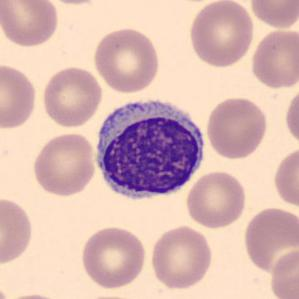Lymphocyte: (89, 90, 210, 207)
RBC: (91, 26, 162, 94), (30, 130, 98, 198), (187, 0, 255, 68), (79, 224, 148, 290), (148, 224, 215, 291), (204, 95, 270, 161), (40, 64, 104, 129), (241, 204, 297, 275), (184, 169, 248, 230), (248, 26, 298, 91), (0, 0, 61, 49), (0, 61, 39, 130), (0, 194, 36, 267), (271, 144, 298, 210), (267, 247, 299, 299), (247, 0, 298, 29), (283, 85, 299, 149), (2, 290, 70, 299), (78, 292, 147, 299), (41, 0, 107, 7)
